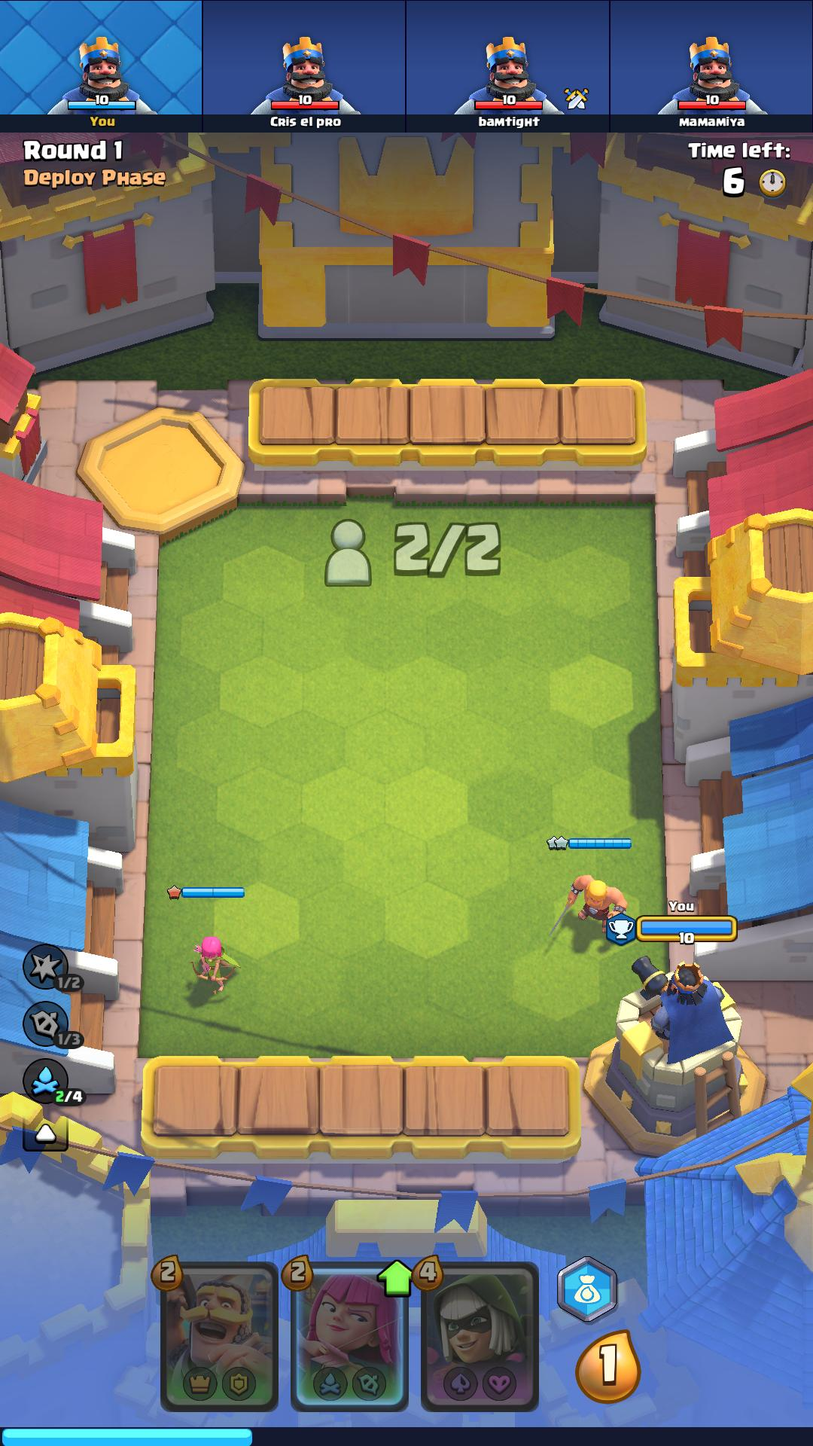archer: (174, 927, 248, 988)
barbarian: (551, 865, 630, 941)
hand-archer: (294, 1263, 407, 1407)
hand-bandit: (426, 1264, 536, 1406)
hand-knight: (164, 1266, 277, 1410)
upgrade: (378, 1260, 417, 1300)
